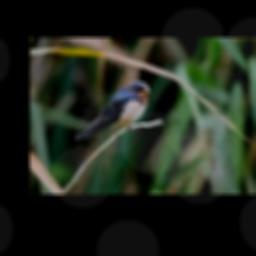Swallow: (72, 80, 149, 139)
